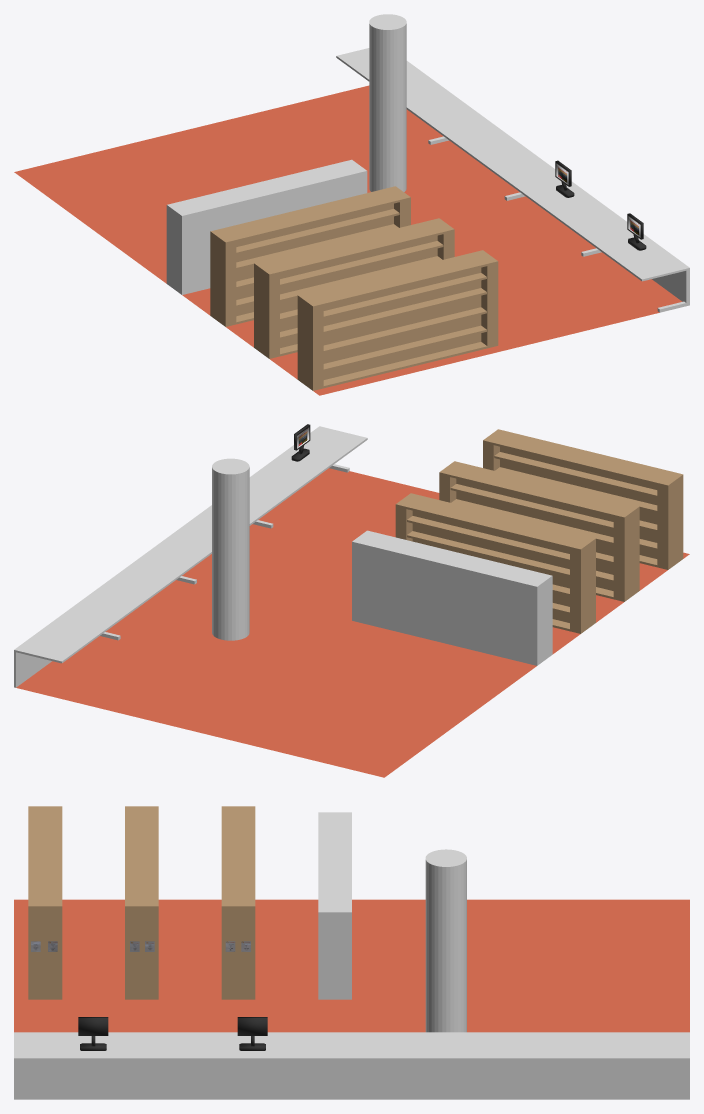
File: biblioteca.dae
3 views of the same model, one above another, from view 1: azimuth 30°, elevation 25°; view 2: azimuth 150°, elevation 25°; view 3: azimuth 270°, elevation 25° (orthographic). The views are drawn at different scales.
Visible parts, largest first — view 1: Pavimento.005, Bookshelf.002, Bookshelf.003, Bookshelf.001, Placeholder, Tavolo.001, Colonna, Tavolo.002; view 2: Pavimento.005, Placeholder, Bookshelf.003, Bookshelf.002, Bookshelf.001, Tavolo.002, Colonna, Tavolo.001; view 3: Pavimento.005, Tavolo.002, Tavolo.001, Colonna, Bookshelf.003, Bookshelf.002, Bookshelf.001, Placeholder, Monitor1, Monitor2.
Part boxes in pixels (box(x1,y1,x2,y2)): Pavimento.005: box(14, 85, 682, 395); Bookshelf.002: box(297, 250, 498, 390); Bookshelf.003: box(210, 186, 410, 326); Bookshelf.001: box(254, 218, 454, 358); Placeholder: box(166, 159, 367, 294); Tavolo.001: box(489, 156, 689, 312); Colonna: box(369, 14, 406, 191); Tavolo.002: box(336, 48, 536, 200); Pavimento.005: box(16, 468, 689, 777); Placeholder: box(352, 530, 552, 665); Bookshelf.003: box(395, 493, 595, 633); Bookshelf.002: box(483, 429, 683, 569); Bookshelf.001: box(439, 461, 639, 601); Tavolo.002: box(14, 538, 211, 687); Colonna: box(212, 458, 249, 640); Tavolo.001: box(167, 426, 367, 548); Pavimento.005: box(14, 899, 689, 1032); Tavolo.002: box(352, 1032, 689, 1099); Tavolo.001: box(14, 1032, 351, 1099); Colonna: box(425, 849, 466, 1032); Bookshelf.003: box(221, 806, 255, 999); Bookshelf.002: box(28, 806, 62, 999); Bookshelf.001: box(125, 806, 158, 999); Placeholder: box(318, 812, 351, 999); Monitor1: box(78, 1017, 108, 1050); Monitor2: box(237, 1017, 267, 1050).
Size of the model in its own units: 9.8 by 14 by 4.2.
11 materials, 8 textured.
